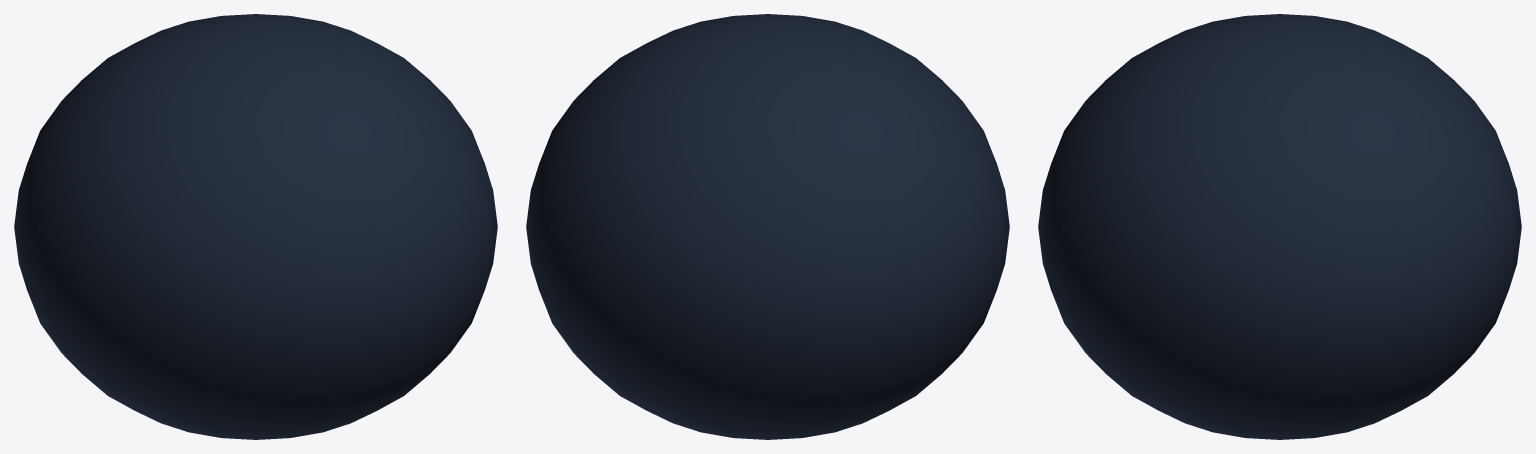
The model's file is bob.glb.
The picture shows the model from 3 angles, left to right: view 1: azimuth 30°, elevation 25°; view 2: azimuth 150°, elevation 25°; view 3: azimuth 270°, elevation 25°; orthographic projection.
Size of the model in its own units: 11.55 by 9.9 by 11.55.
